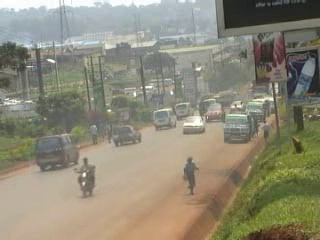Car: (109, 124, 146, 147), (181, 113, 206, 135), (228, 98, 245, 113)
Motorcycle: (72, 157, 99, 199)
